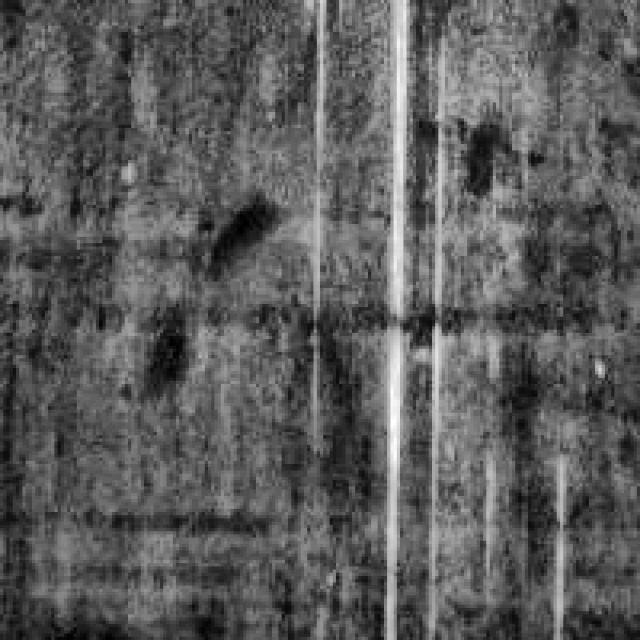Inclusion: (365, 0, 416, 624)
